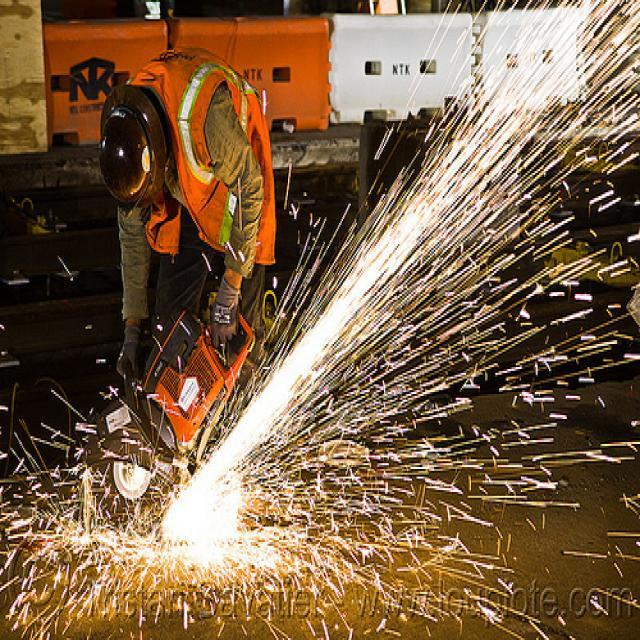reflective_jacket: (145, 46, 275, 267)
